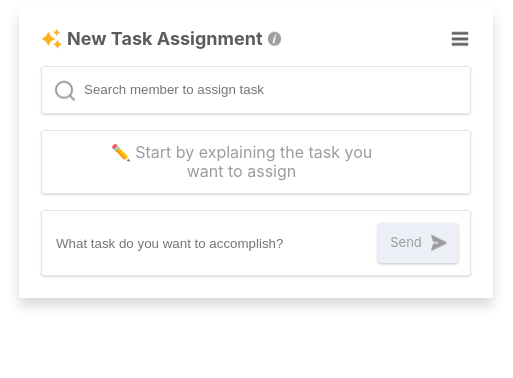
Test: Page component › renders user list correctly
This screenshot has width=513, height=378.
Type "Shres" into the field with placeholder "Search member to assign task" at (176, 90), box x1=82 y1=81 x2=271 y2=98
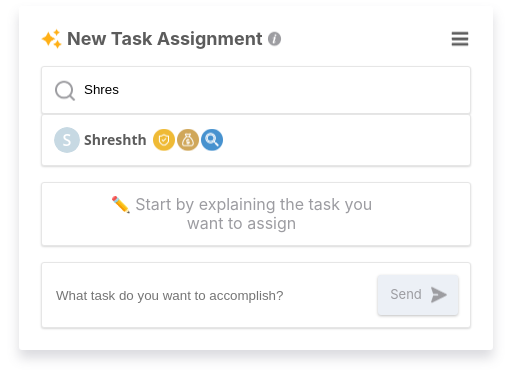
Expected: the text "Shreshth" is shown, x1=84 y1=130 x2=147 y2=150
